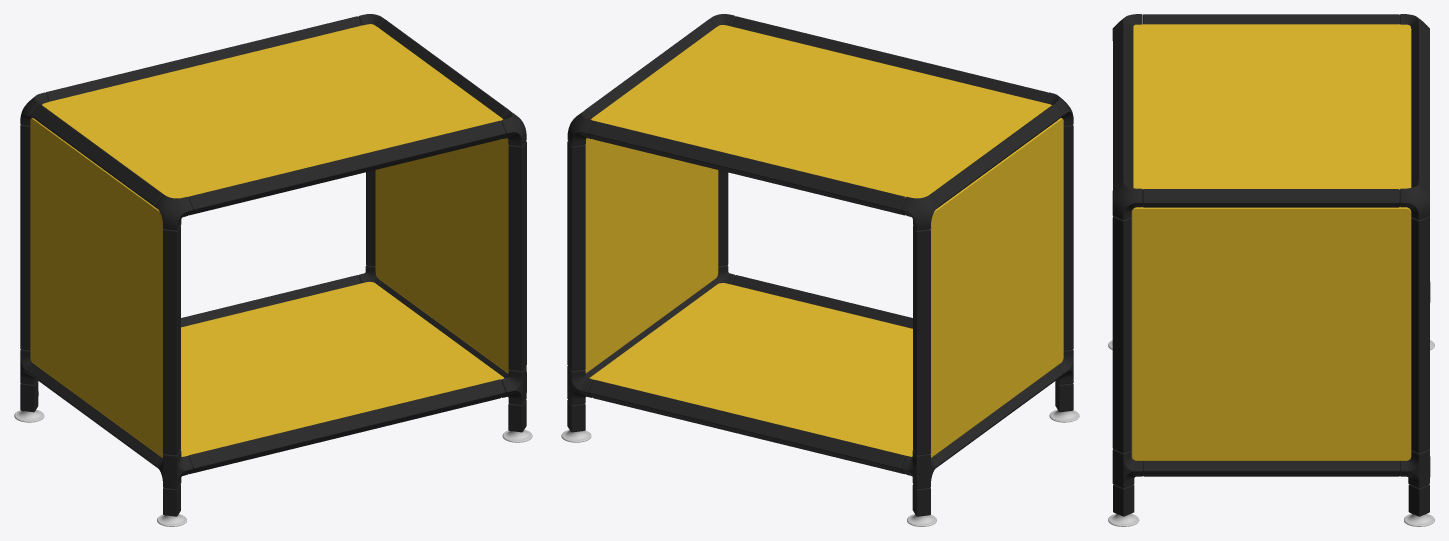
3 views of the same model, side by side, from view 1: azimuth 30°, elevation 25°; view 2: azimuth 150°, elevation 25°; view 3: azimuth 270°, elevation 25° (orthographic). The views are drawn at different scales.
Visible parts, largest first — view 1: 479x329x329; view 2: 479x329x329; view 3: 479x329x329.
Part boxes in pixels (x1,y1,x2,y2): 479x329x329: [14, 14, 532, 526]; 479x329x329: [561, 14, 1079, 526]; 479x329x329: [1108, 14, 1434, 526].
Bounding box in the file's own units: 0.5689 × 0.4683 × 0.4183.
